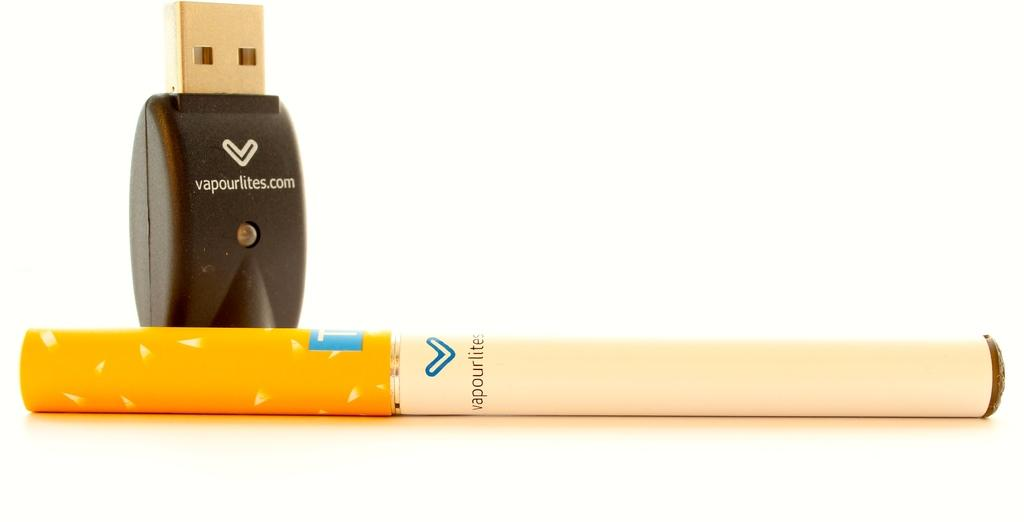pen: (18, 327, 1007, 421)
